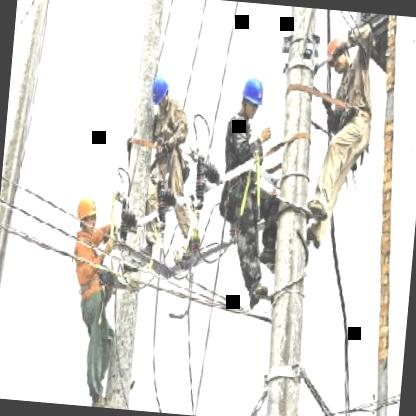helmet: (237, 72, 267, 124), (72, 191, 101, 241), (324, 30, 352, 76), (148, 74, 172, 112)
